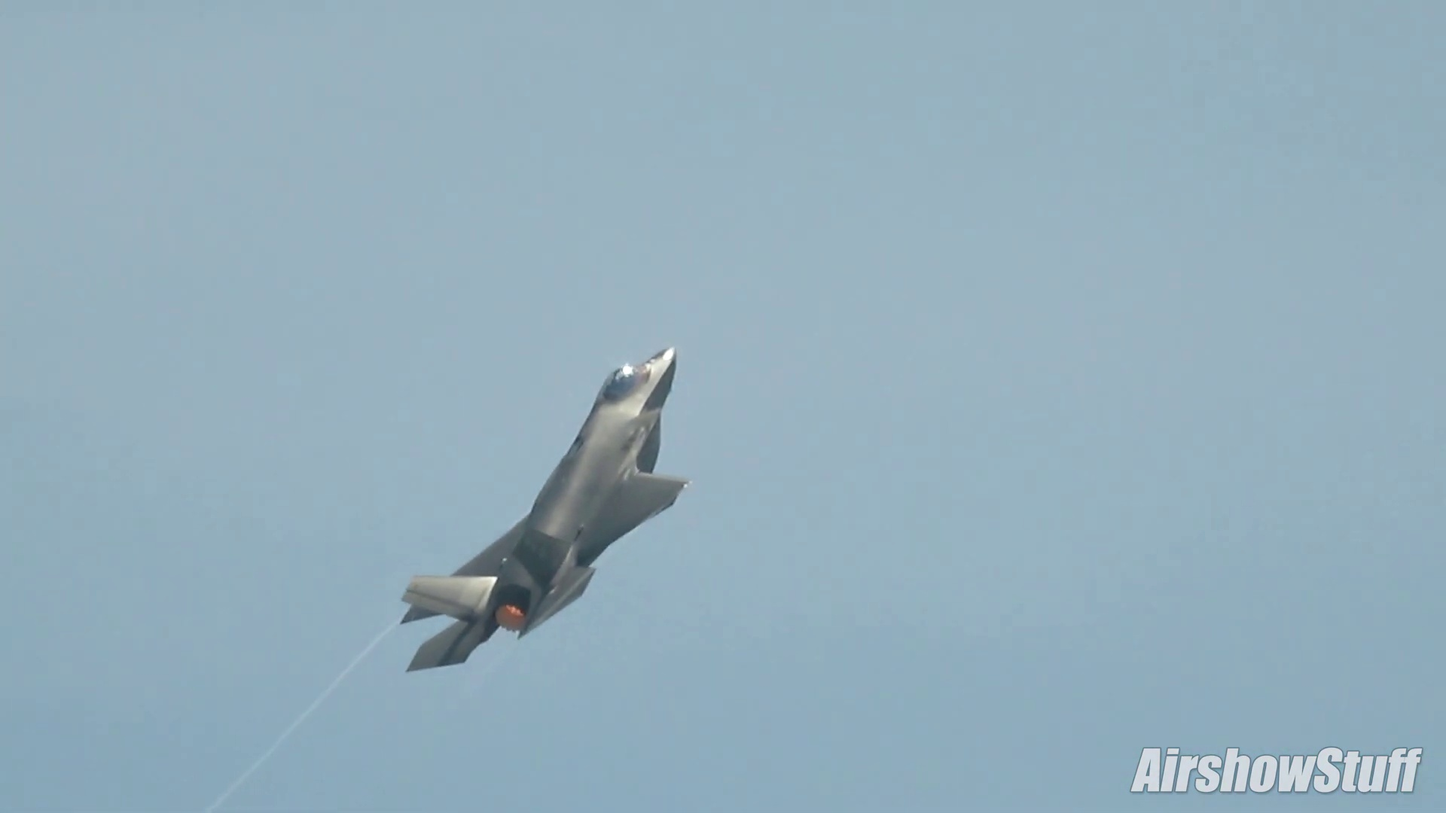F35: (382, 336, 694, 684)
